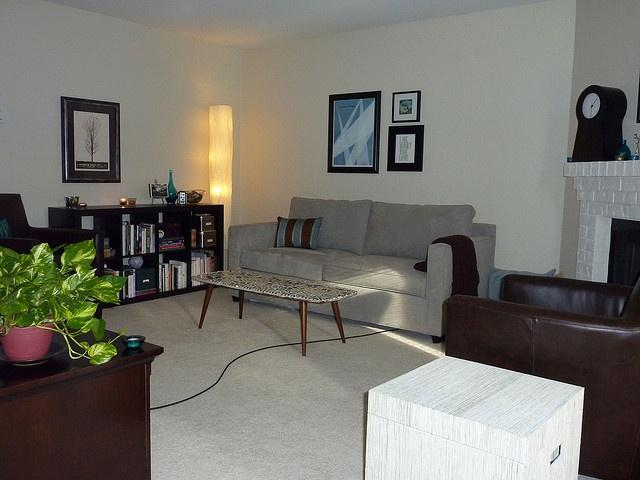Meja: (190, 269, 357, 356)
Rak: (80, 205, 222, 306)
